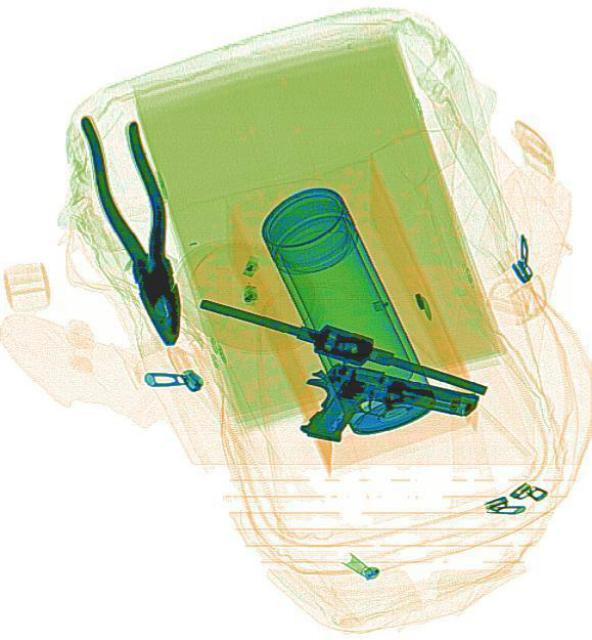Gun: (290, 354, 478, 471)
Pliers: (78, 100, 199, 352)
